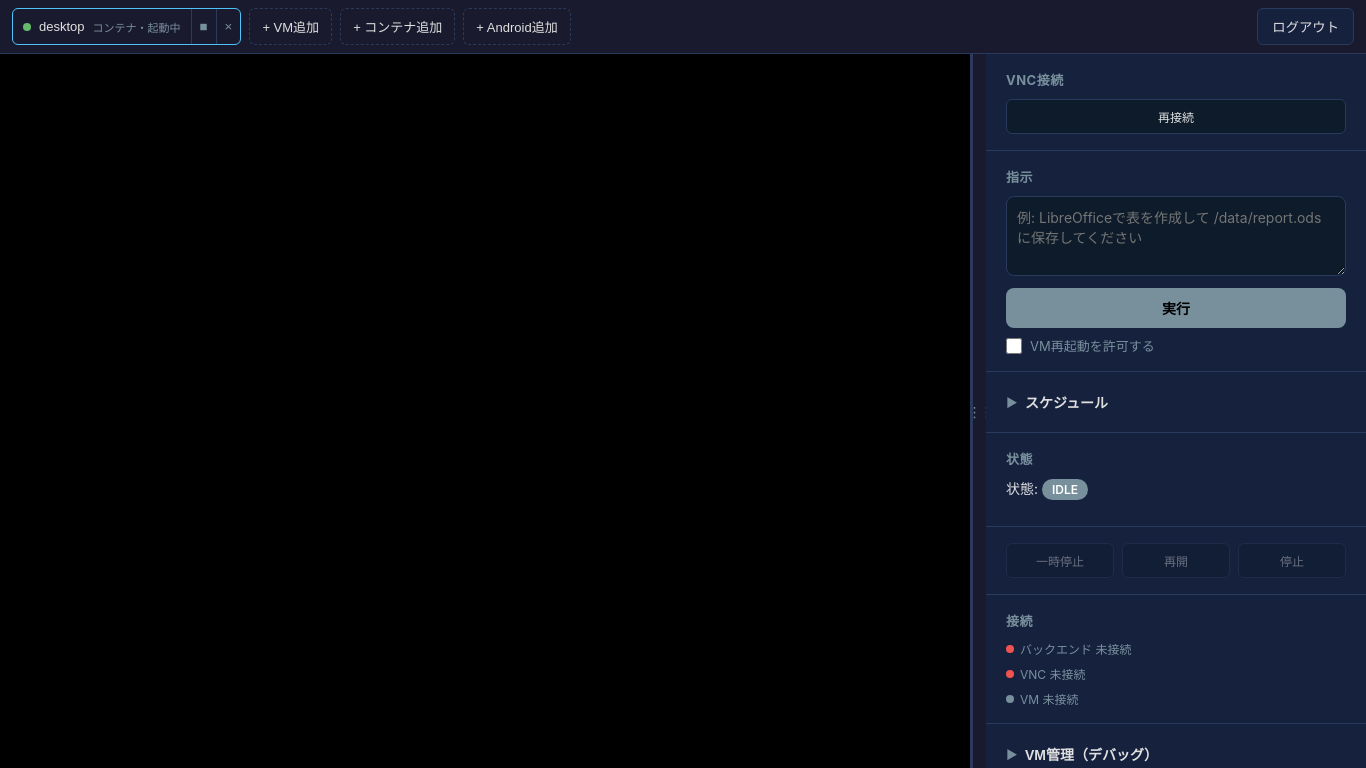
Test: an old backend's 410 cannot force a new retry key after a restart
The width and height of the screenshot is (1366, 768).
In the text box named "指示": (1176, 236) [1006,196,1346,276], type "報告書を保存する"
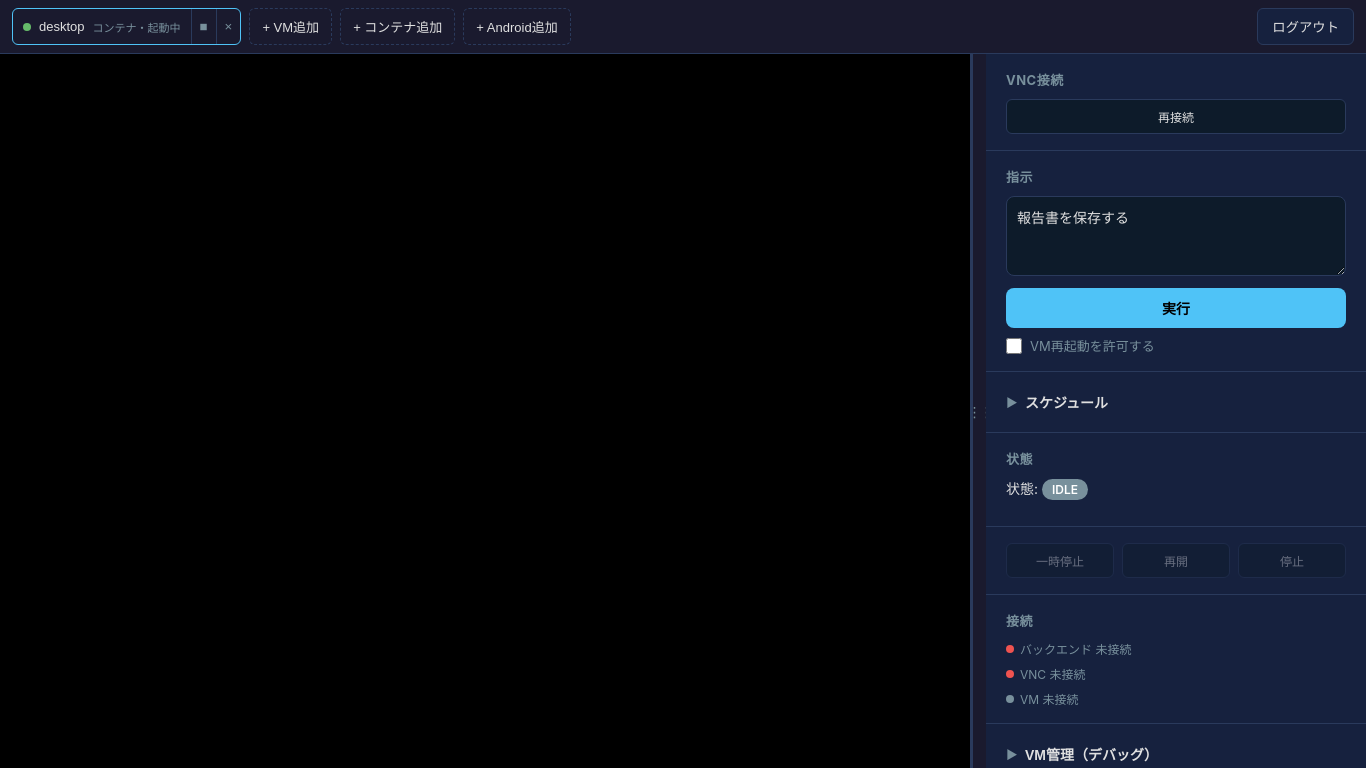
Click the button "実行": (1176, 308) [1006,288,1346,328]
(page scrolled)
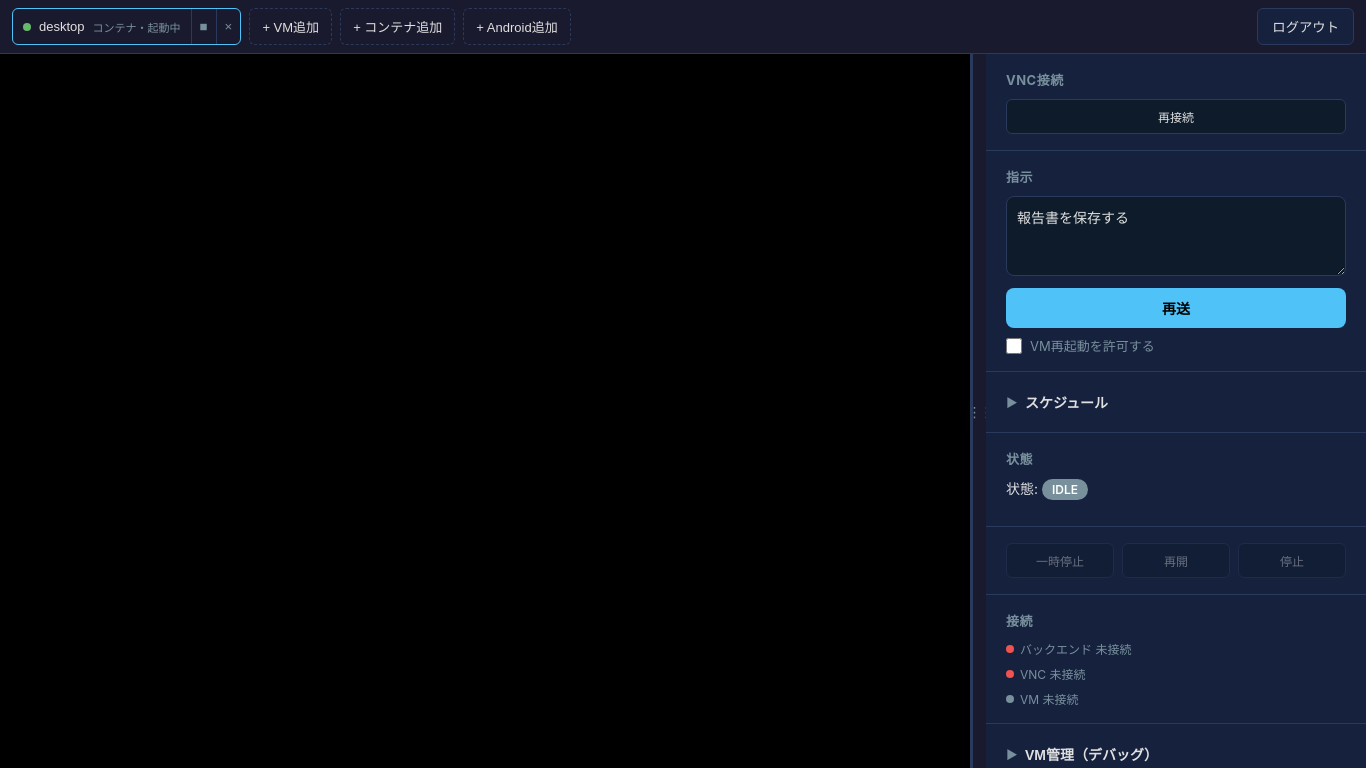
Click the button "再送": (1176, 308) [1006,288,1346,328]
(page scrolled)
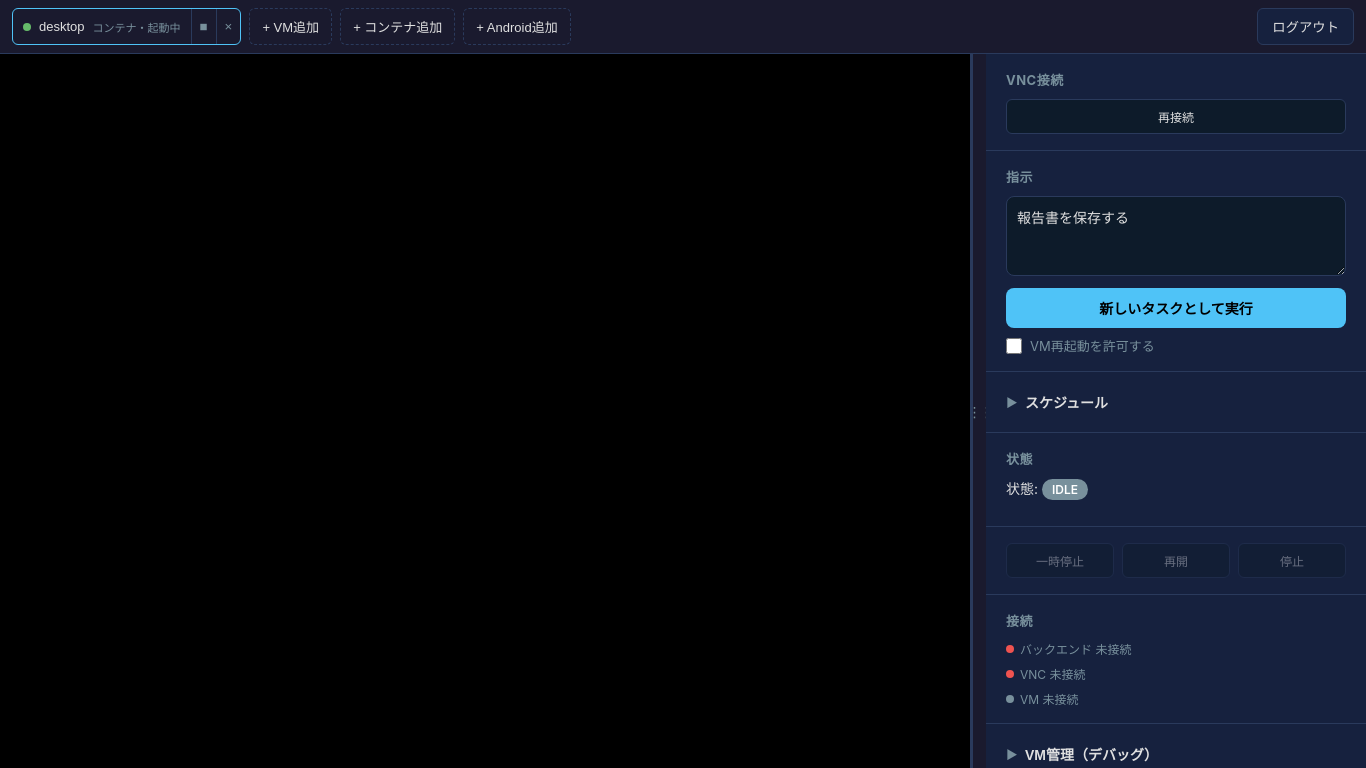
Check: the button "新しいタスクとして実行" is shown, box [1006,288,1346,328]
